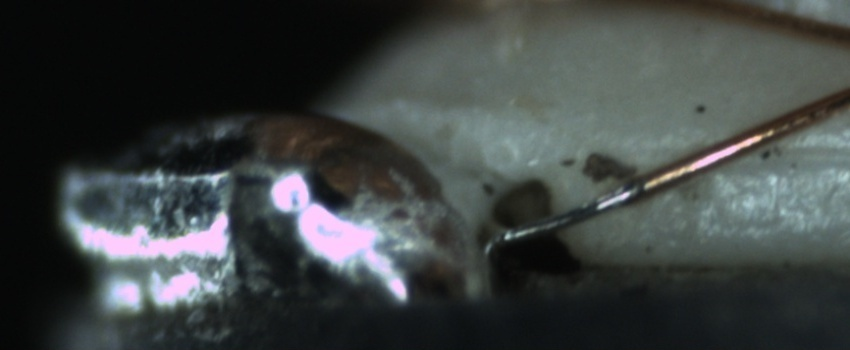DL: (697, 122, 849, 189)
TS: (498, 178, 644, 246)
